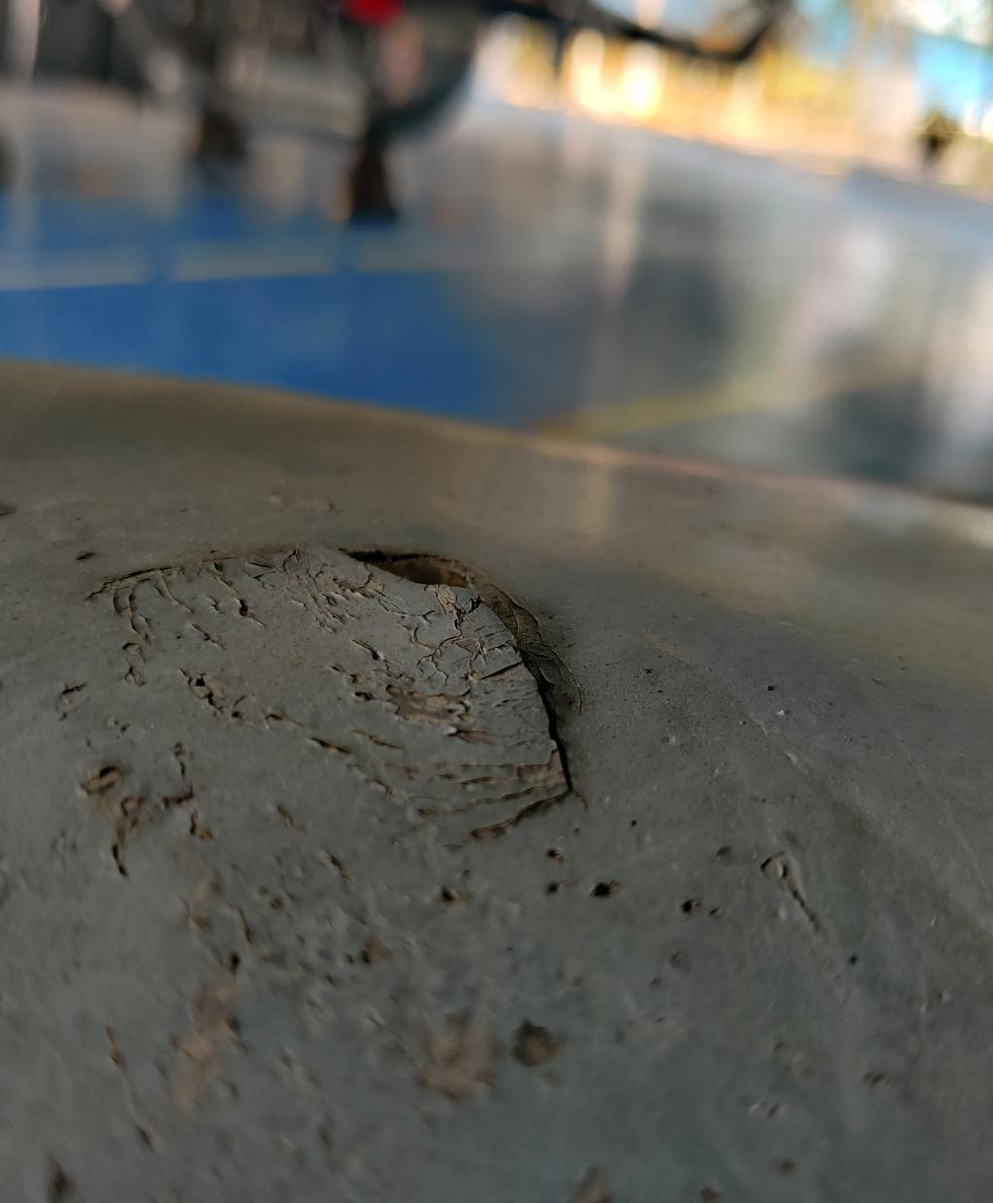crack: (69, 501, 629, 874)
